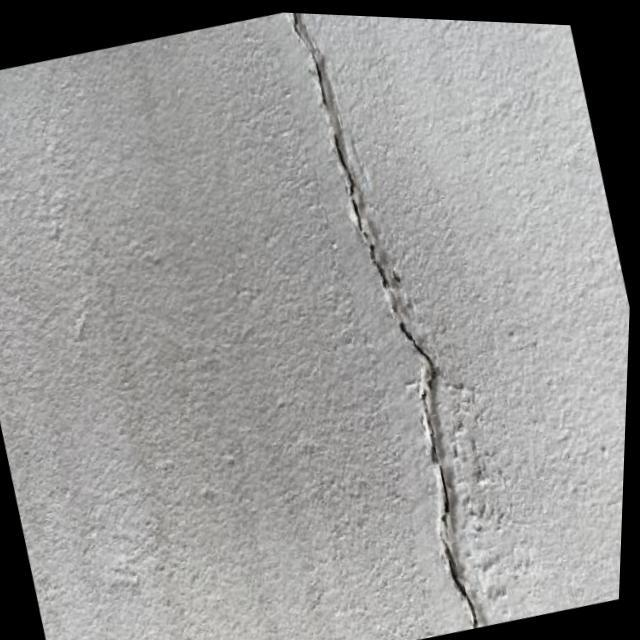Crack: (282, 25, 482, 621)
